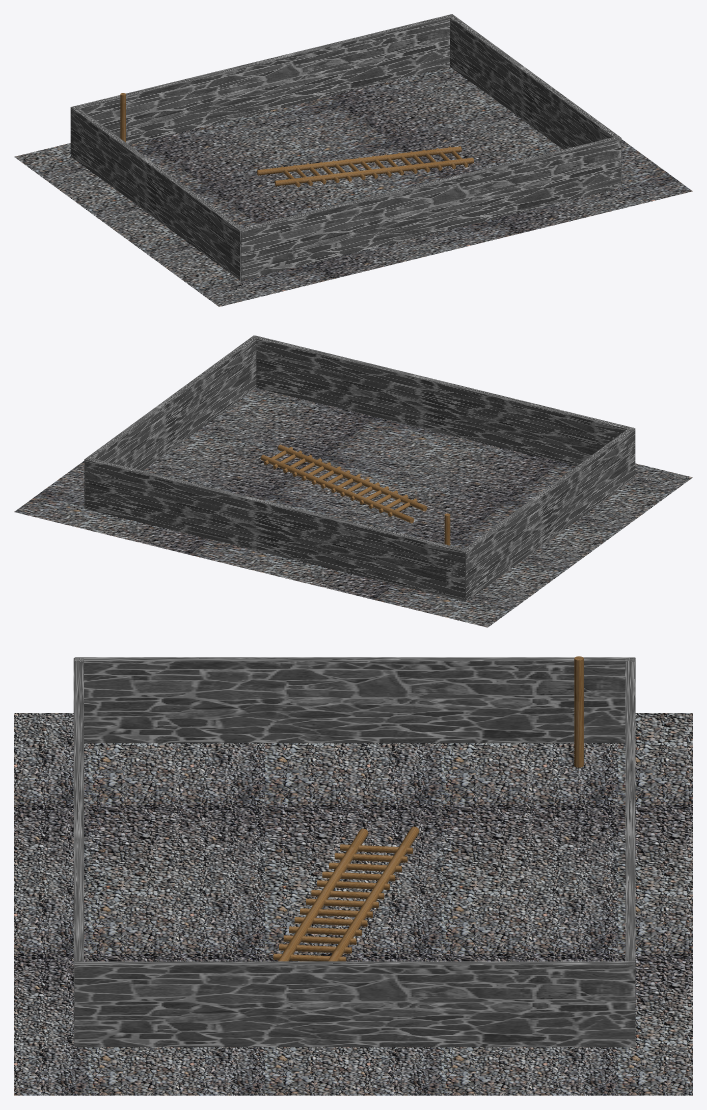
File: Hittites_TownCenter_onConstruction.fbx
3 renders of one model, top to bottom at view 1: azimuth 30°, elevation 25°; view 2: azimuth 150°, elevation 25°; view 3: azimuth 270°, elevation 25°, orthographic. The views are drawn at different scales.
Visible parts, largest first — view 1: Plano.000, Cube, Cube.001, Cube.003, Cube.002, Cylinder.000, Cylinder.003; view 2: Plano.000, Cube.001, Cube, Cube.003, Cube.002, Cylinder.000, Cylinder.003; view 3: Plano.000, Cube.002, Cube.003, Cube, Cube.001, Cylinder.000, Cylinder.003, Cylinder.007.
Boxes of the visible parts, left/top/right/bottom form: Plano.000: left=14, top=67, right=692, bottom=306; Cube: left=239, top=137, right=620, bottom=280; Cube.001: left=76, top=14, right=452, bottom=144; Cube.003: left=70, top=106, right=243, bottom=280; Cube.002: left=447, top=14, right=621, bottom=187; Cylinder.000: left=257, top=146, right=461, bottom=175; Cylinder.003: left=274, top=157, right=473, bottom=186; Plano.000: left=14, top=388, right=692, bottom=627; Cube.001: left=85, top=458, right=466, bottom=601; Cube: left=253, top=335, right=634, bottom=466; Cube.003: left=461, top=427, right=635, bottom=601; Cube.002: left=84, top=335, right=257, bottom=508; Cylinder.000: left=260, top=454, right=414, bottom=523; Cylinder.003: left=277, top=444, right=427, bottom=511; Plano.000: left=14, top=713, right=692, bottom=1095; Cube.002: left=74, top=961, right=635, bottom=1047; Cube.003: left=74, top=657, right=635, bottom=743; Cube: left=73, top=658, right=83, bottom=1046; Cube.001: left=625, top=658, right=635, bottom=1045; Cylinder.000: left=328, top=826, right=419, bottom=961; Cylinder.003: left=278, top=828, right=368, bottom=961; Cylinder.007: left=574, top=656, right=583, bottom=767.
Size of the model in its own units: 1529 by 214 by 1147.
3 materials, 3 textured.
